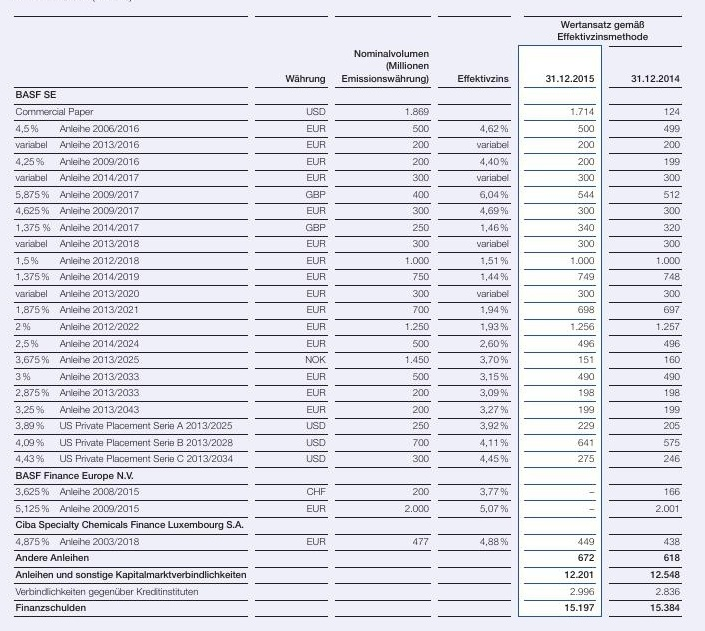table: (0, 0, 705, 631)
